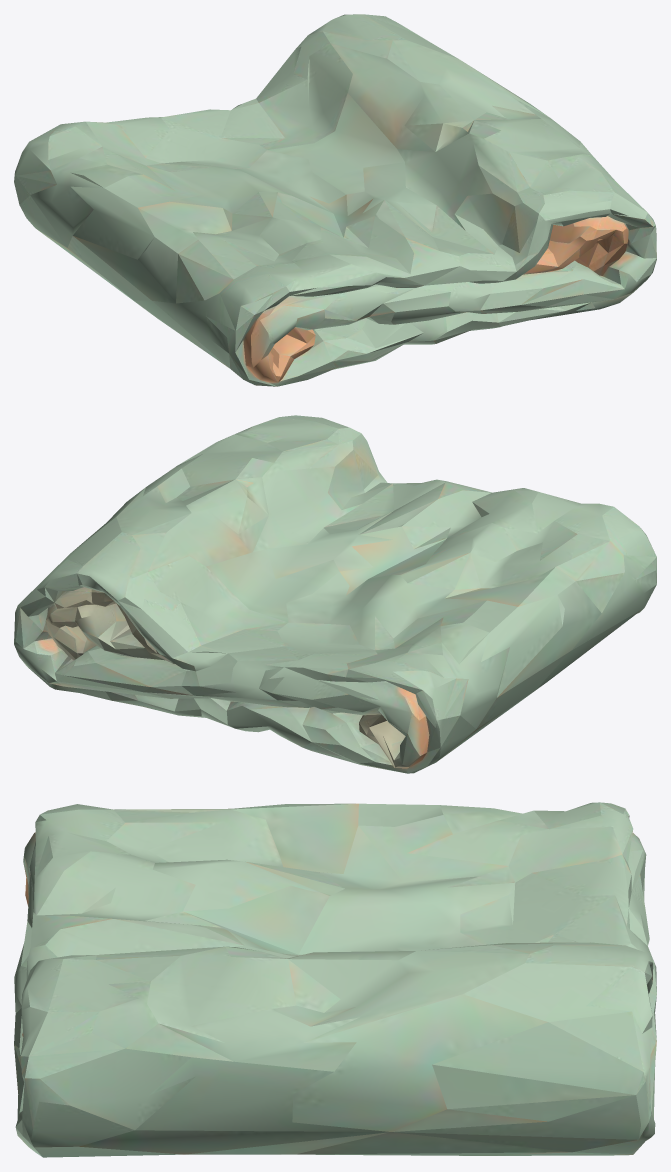
File: towel.73ce321a.glb
The picture shows the model from 3 angles, top to bottom: view 1: azimuth 30°, elevation 25°; view 2: azimuth 150°, elevation 25°; view 3: azimuth 270°, elevation 25°; orthographic projection. The views are drawn at different scales.
Parts seen in each view (by area): view 1: output_unwrapped; view 2: output_unwrapped; view 3: output_unwrapped.
Boxes of the visible parts, x1,y1,x2,y2 form: output_unwrapped: [14, 14, 656, 386]; output_unwrapped: [14, 415, 656, 773]; output_unwrapped: [14, 802, 656, 1157].
Bounding box in the file's own units: 1.89 × 0.5824 × 1.89.
Materials: 1 (1 with a texture image).
